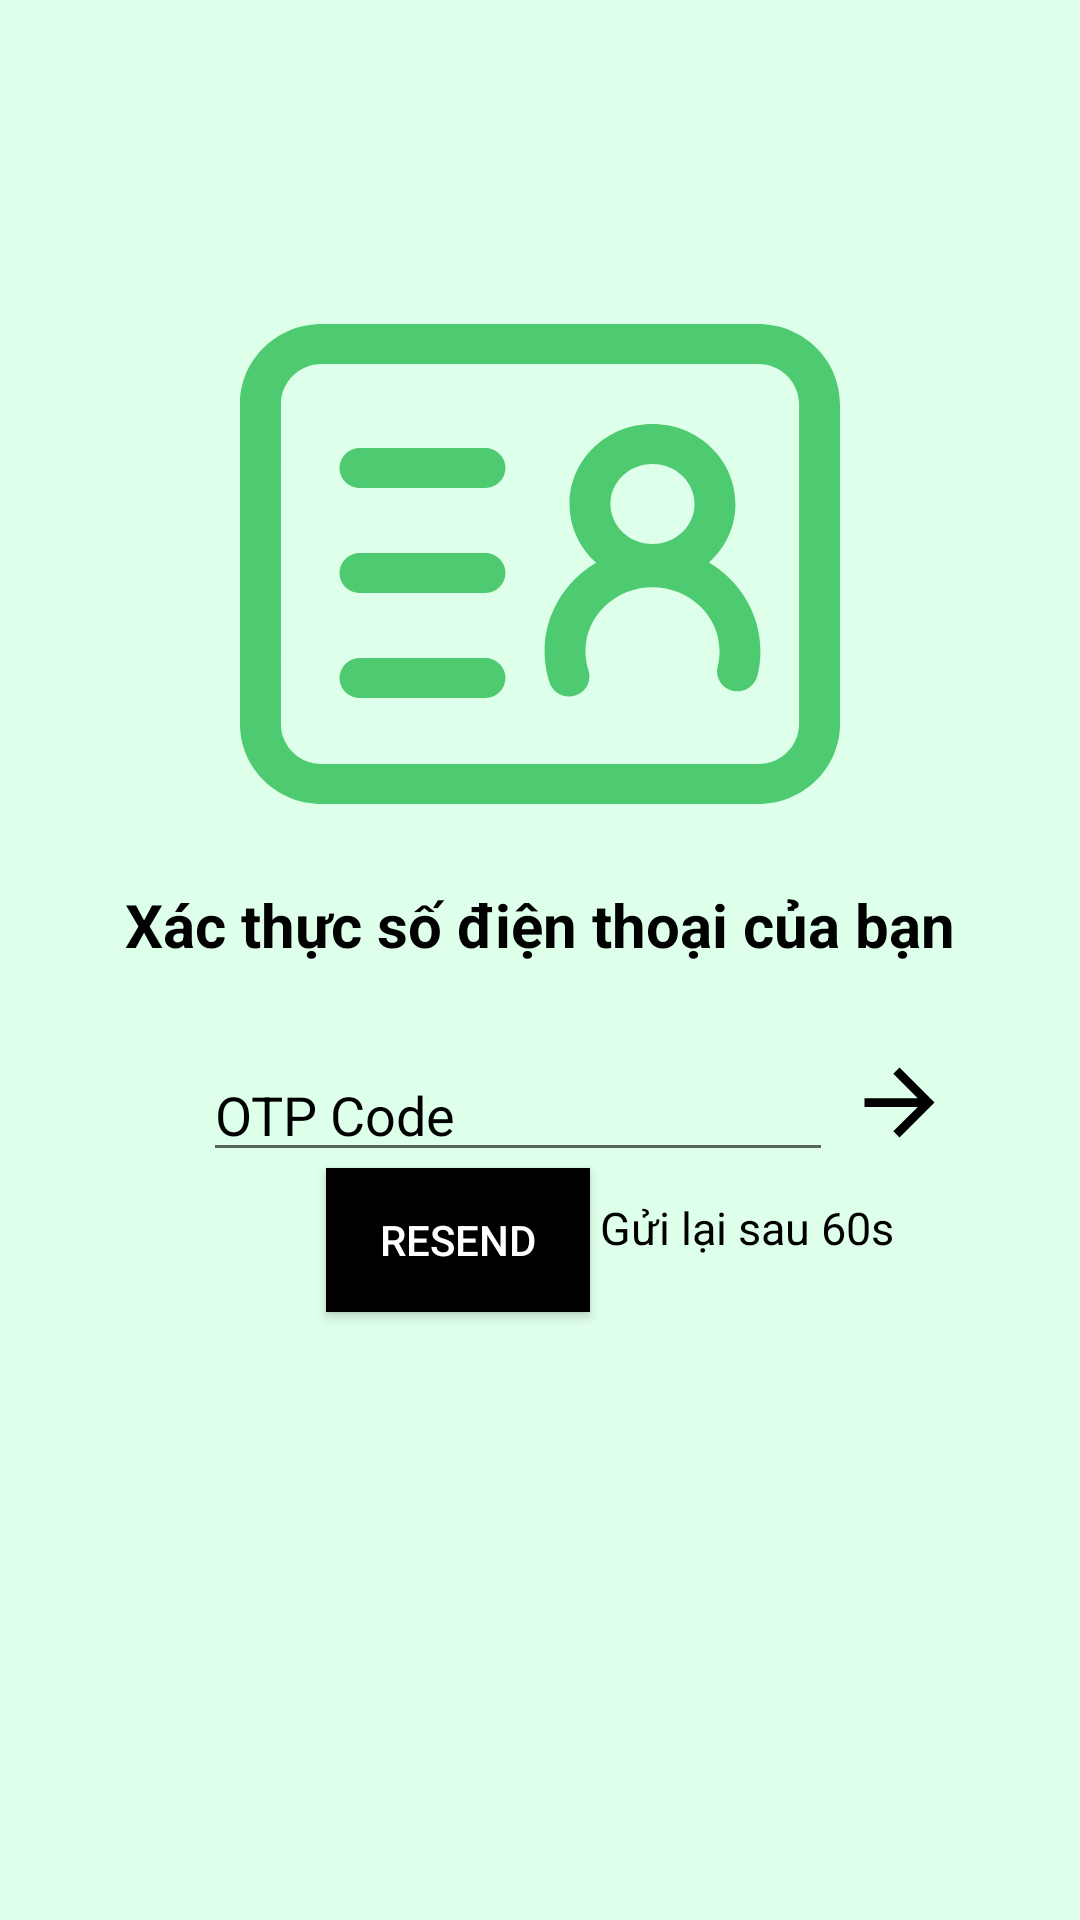

Point at icon controls on the screen. Image size 1080px x 1920px, points as [x,y].
arrow forward: [899,1102]
